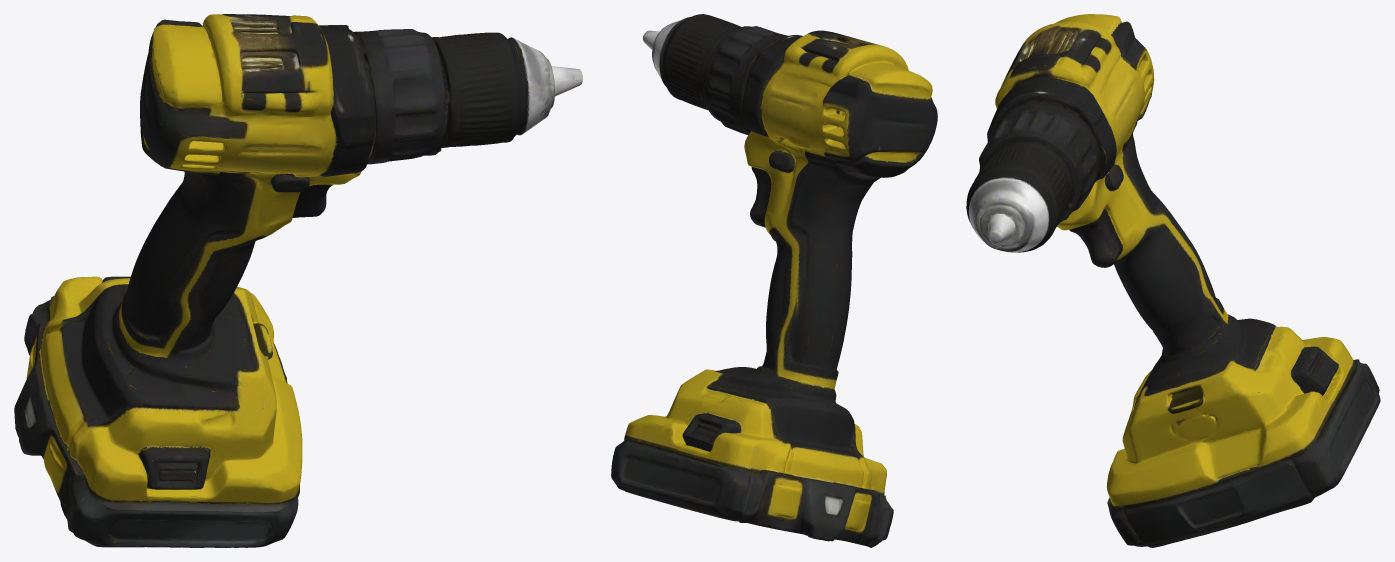
File: pixal3d.glb
3 renders of one model, left to right at view 1: azimuth 30°, elevation 25°; view 2: azimuth 150°, elevation 25°; view 3: azimuth 270°, elevation 25°, orthographic. The views are drawn at different scales.
Parts seen in each view (by area): view 1: world; view 2: world; view 3: world.
Boxes of the visible parts, x1,y1,x2,y2 form: world: (14,14,582,547); world: (611,14,937,547); world: (966,14,1380,547).
Bounding box in the file's own units: 0.6084 × 0.8177 × 0.6267.
1 material, 1 textured.
